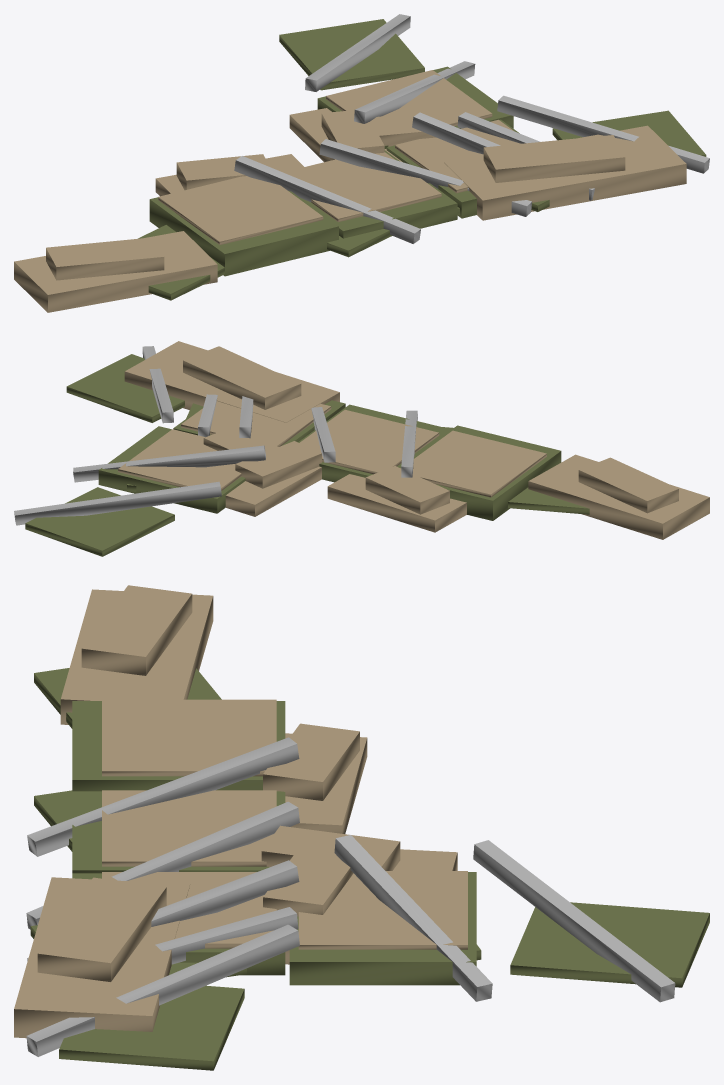
The model's file is SM_HescoRemateEspejo_v2_Escalonado_e3_Brecha_LOD1.fbx.
3 renders of one model, top to bottom at view 1: azimuth 30°, elevation 25°; view 2: azimuth 150°, elevation 25°; view 3: azimuth 270°, elevation 25°, orthographic. The views are drawn at different scales.
Parts seen in each view (by area): view 1: SM_hesco_piezas_v31_LOD1; view 2: SM_hesco_piezas_v31_LOD1; view 3: SM_hesco_piezas_v31_LOD1.
Part boxes in pixels (bbox=[...]): SM_hesco_piezas_v31_LOD1: bbox=[14, 14, 709, 312]; SM_hesco_piezas_v31_LOD1: bbox=[14, 341, 709, 556]; SM_hesco_piezas_v31_LOD1: bbox=[14, 585, 709, 1070].
Bounding box in the file's own units: 6.23 × 0.351 × 3.99.
